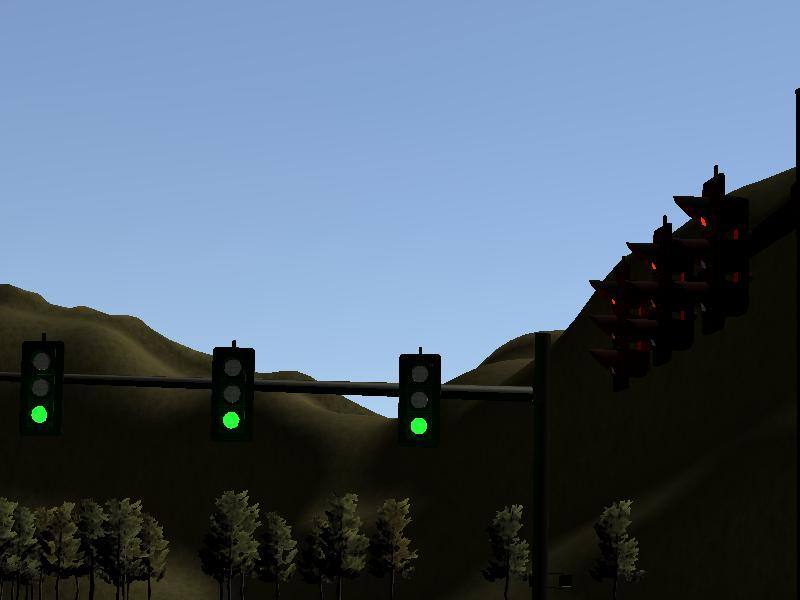Green: (20, 341, 64, 436), (397, 353, 441, 448), (211, 347, 255, 442)
